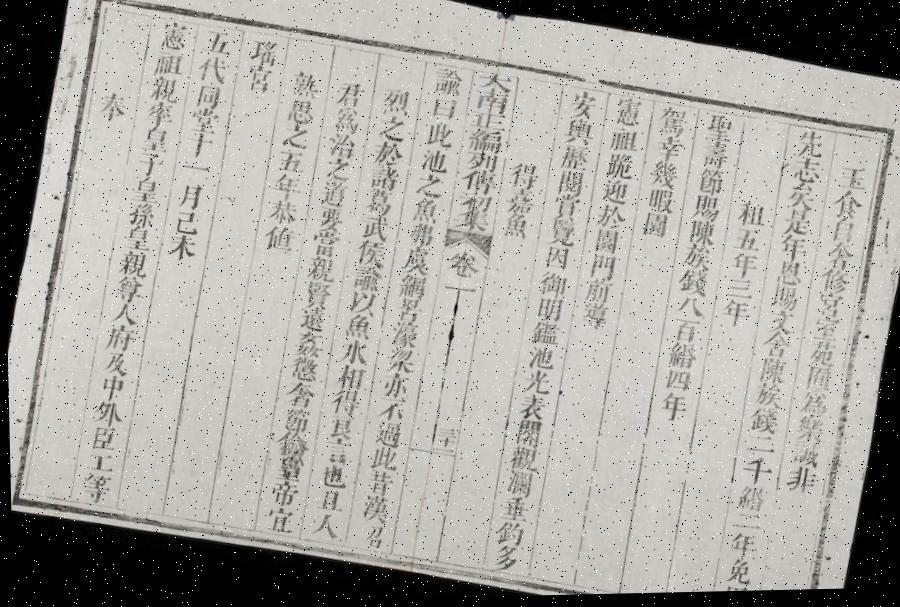c: (72, 468, 112, 507), (426, 64, 467, 102), (153, 16, 192, 54), (734, 455, 774, 492), (442, 248, 483, 284), (93, 87, 131, 125), (653, 106, 692, 143), (826, 190, 866, 226), (270, 430, 312, 464), (285, 67, 324, 103), (278, 378, 318, 413), (504, 160, 542, 196), (790, 129, 828, 165), (788, 416, 827, 451), (258, 222, 298, 256), (742, 407, 782, 441), (778, 466, 818, 500), (564, 90, 601, 126), (609, 97, 646, 133), (644, 161, 682, 196), (714, 299, 752, 334), (244, 35, 282, 70), (376, 85, 414, 120), (193, 53, 232, 87), (672, 268, 711, 302), (323, 386, 362, 420), (198, 25, 237, 59), (350, 238, 388, 272), (776, 208, 814, 242), (384, 319, 422, 353), (112, 247, 150, 281), (832, 164, 870, 198), (458, 168, 498, 200), (87, 396, 124, 430), (108, 272, 145, 306), (305, 228, 342, 262), (162, 231, 199, 265), (700, 114, 737, 148), (262, 196, 300, 229), (148, 48, 186, 81), (814, 268, 852, 301), (262, 477, 300, 510), (304, 511, 342, 544), (463, 128, 504, 158), (560, 118, 596, 152), (653, 392, 689, 426), (574, 302, 610, 336), (662, 342, 699, 375), (396, 247, 433, 280), (100, 321, 137, 354), (730, 485, 767, 518), (144, 73, 181, 106), (268, 171, 305, 204), (354, 493, 391, 526), (793, 390, 830, 423), (772, 236, 810, 268), (374, 372, 412, 404), (346, 264, 384, 296), (784, 442, 822, 474), (786, 158, 824, 190), (820, 242, 856, 275), (600, 153, 636, 186), (298, 280, 334, 313), (240, 63, 276, 96), (732, 201, 768, 234), (314, 179, 350, 212), (126, 173, 162, 206), (268, 454, 305, 486), (364, 164, 401, 196), (288, 329, 325, 361), (301, 254, 338, 286), (368, 140, 406, 171), (590, 204, 628, 235), (471, 91, 511, 120), (332, 78, 366, 112), (782, 184, 818, 216), (802, 340, 838, 372), (284, 354, 320, 386), (360, 188, 396, 220), (512, 394, 548, 426), (368, 419, 404, 451), (542, 220, 578, 252), (500, 190, 536, 222), (330, 362, 366, 394), (748, 384, 784, 416), (380, 346, 416, 378), (724, 252, 760, 284), (140, 100, 176, 132), (756, 332, 792, 364), (259, 505, 295, 537), (135, 125, 171, 157), (118, 222, 154, 254), (421, 121, 456, 153), (724, 532, 759, 564), (770, 260, 805, 292), (335, 337, 370, 369), (282, 96, 317, 128), (360, 468, 395, 500), (686, 196, 722, 227), (678, 245, 714, 276), (122, 200, 158, 231), (765, 285, 801, 316), (556, 146, 592, 177), (338, 313, 374, 344), (131, 149, 167, 180), (696, 144, 732, 175), (466, 110, 508, 136), (475, 70, 514, 98), (509, 418, 542, 451), (328, 106, 362, 138), (534, 272, 568, 304), (172, 180, 206, 212), (754, 358, 788, 390), (548, 194, 582, 226), (683, 221, 718, 252), (522, 345, 557, 376), (692, 169, 727, 200), (526, 321, 561, 352), (323, 131, 358, 162), (190, 82, 225, 113), (186, 106, 221, 137), (494, 495, 529, 526), (181, 130, 216, 161), (728, 228, 764, 258), (310, 486, 346, 516), (392, 274, 428, 304), (604, 128, 640, 158), (355, 214, 391, 244), (343, 290, 379, 320), (276, 406, 312, 436), (410, 172, 446, 202), (363, 444, 399, 474), (825, 218, 858, 250), (318, 438, 352, 469), (322, 414, 356, 445), (374, 114, 408, 145), (518, 369, 552, 400), (168, 207, 202, 238), (530, 297, 564, 328), (762, 309, 796, 340), (84, 423, 118, 454), (580, 278, 614, 309), (584, 254, 618, 285), (651, 137, 685, 168), (97, 348, 131, 379), (806, 316, 841, 346), (810, 293, 845, 323), (490, 520, 525, 550), (503, 446, 538, 476), (642, 189, 677, 219), (389, 297, 424, 327), (273, 148, 308, 178), (670, 296, 706, 325), (452, 210, 490, 237), (462, 150, 500, 177), (720, 558, 752, 590), (638, 212, 670, 244), (667, 318, 700, 349), (798, 366, 832, 396), (314, 462, 348, 492), (486, 544, 520, 574), (416, 148, 450, 178), (294, 306, 328, 336), (538, 246, 572, 276), (500, 470, 534, 500), (311, 205, 345, 235), (278, 123, 312, 153), (596, 180, 630, 210), (372, 396, 406, 426), (93, 372, 127, 402), (552, 171, 586, 201), (105, 300, 140, 329), (354, 522, 386, 553), (589, 229, 621, 260), (408, 198, 441, 228), (498, 216, 531, 246), (426, 96, 459, 126), (720, 278, 754, 306), (319, 156, 353, 184), (741, 435, 776, 462), (80, 448, 115, 475), (404, 222, 436, 251), (660, 370, 692, 398), (455, 193, 492, 217), (438, 281, 476, 304), (728, 512, 761, 537), (178, 157, 212, 180), (432, 423, 454, 442), (433, 436, 453, 453), (716, 585, 748, 595)
